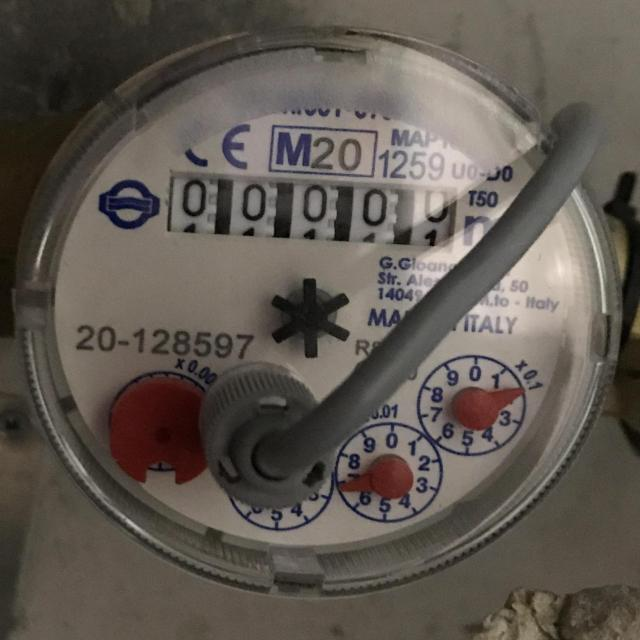gaz_meter: (53, 39, 595, 553)
indication: (163, 170, 460, 249)
